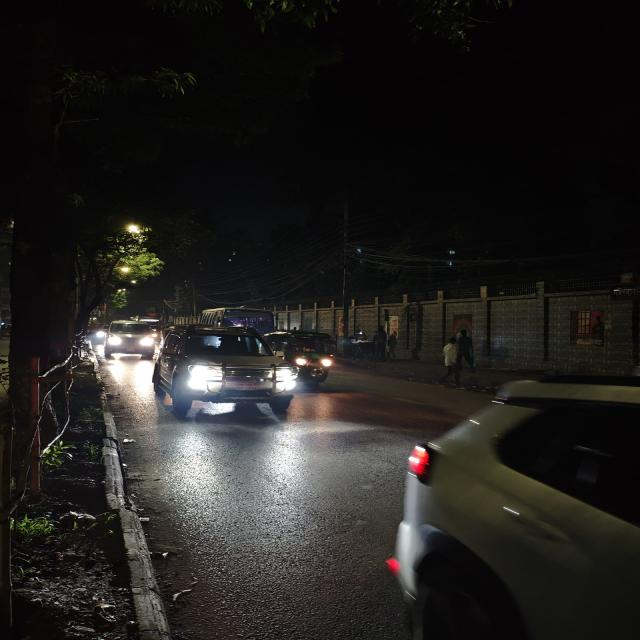bus: (195, 306, 278, 331)
car: (149, 326, 294, 422), (104, 319, 160, 357)
cng: (282, 330, 340, 374)
pedestrian: (436, 326, 481, 390), (368, 325, 392, 362), (377, 326, 401, 361)
